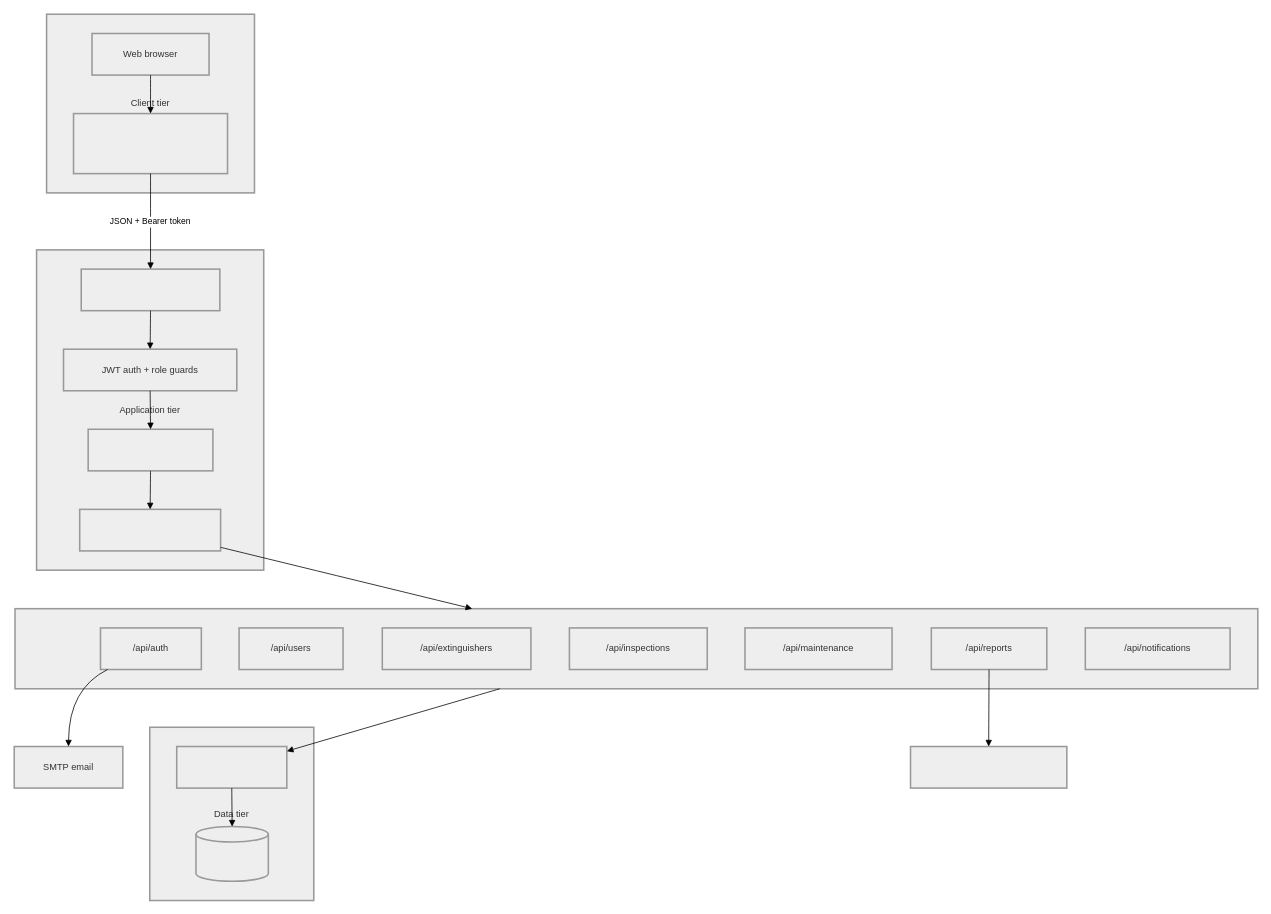
This 1271x914 diagram has some shape labels left out. Each missing label, with the centre of its shape:
"Express REST API" goes at point (150, 289).
"Next.js 14 frontend (React, Tailwind)" goes at point (150, 143).
"PDFKit + CSV export" goes at point (988, 766).
"PostgreSQL" goes at point (232, 853).
"Prisma ORM" goes at point (231, 766).
"Role-based scope" goes at point (150, 529).
"Zod validation" goes at point (150, 449).
